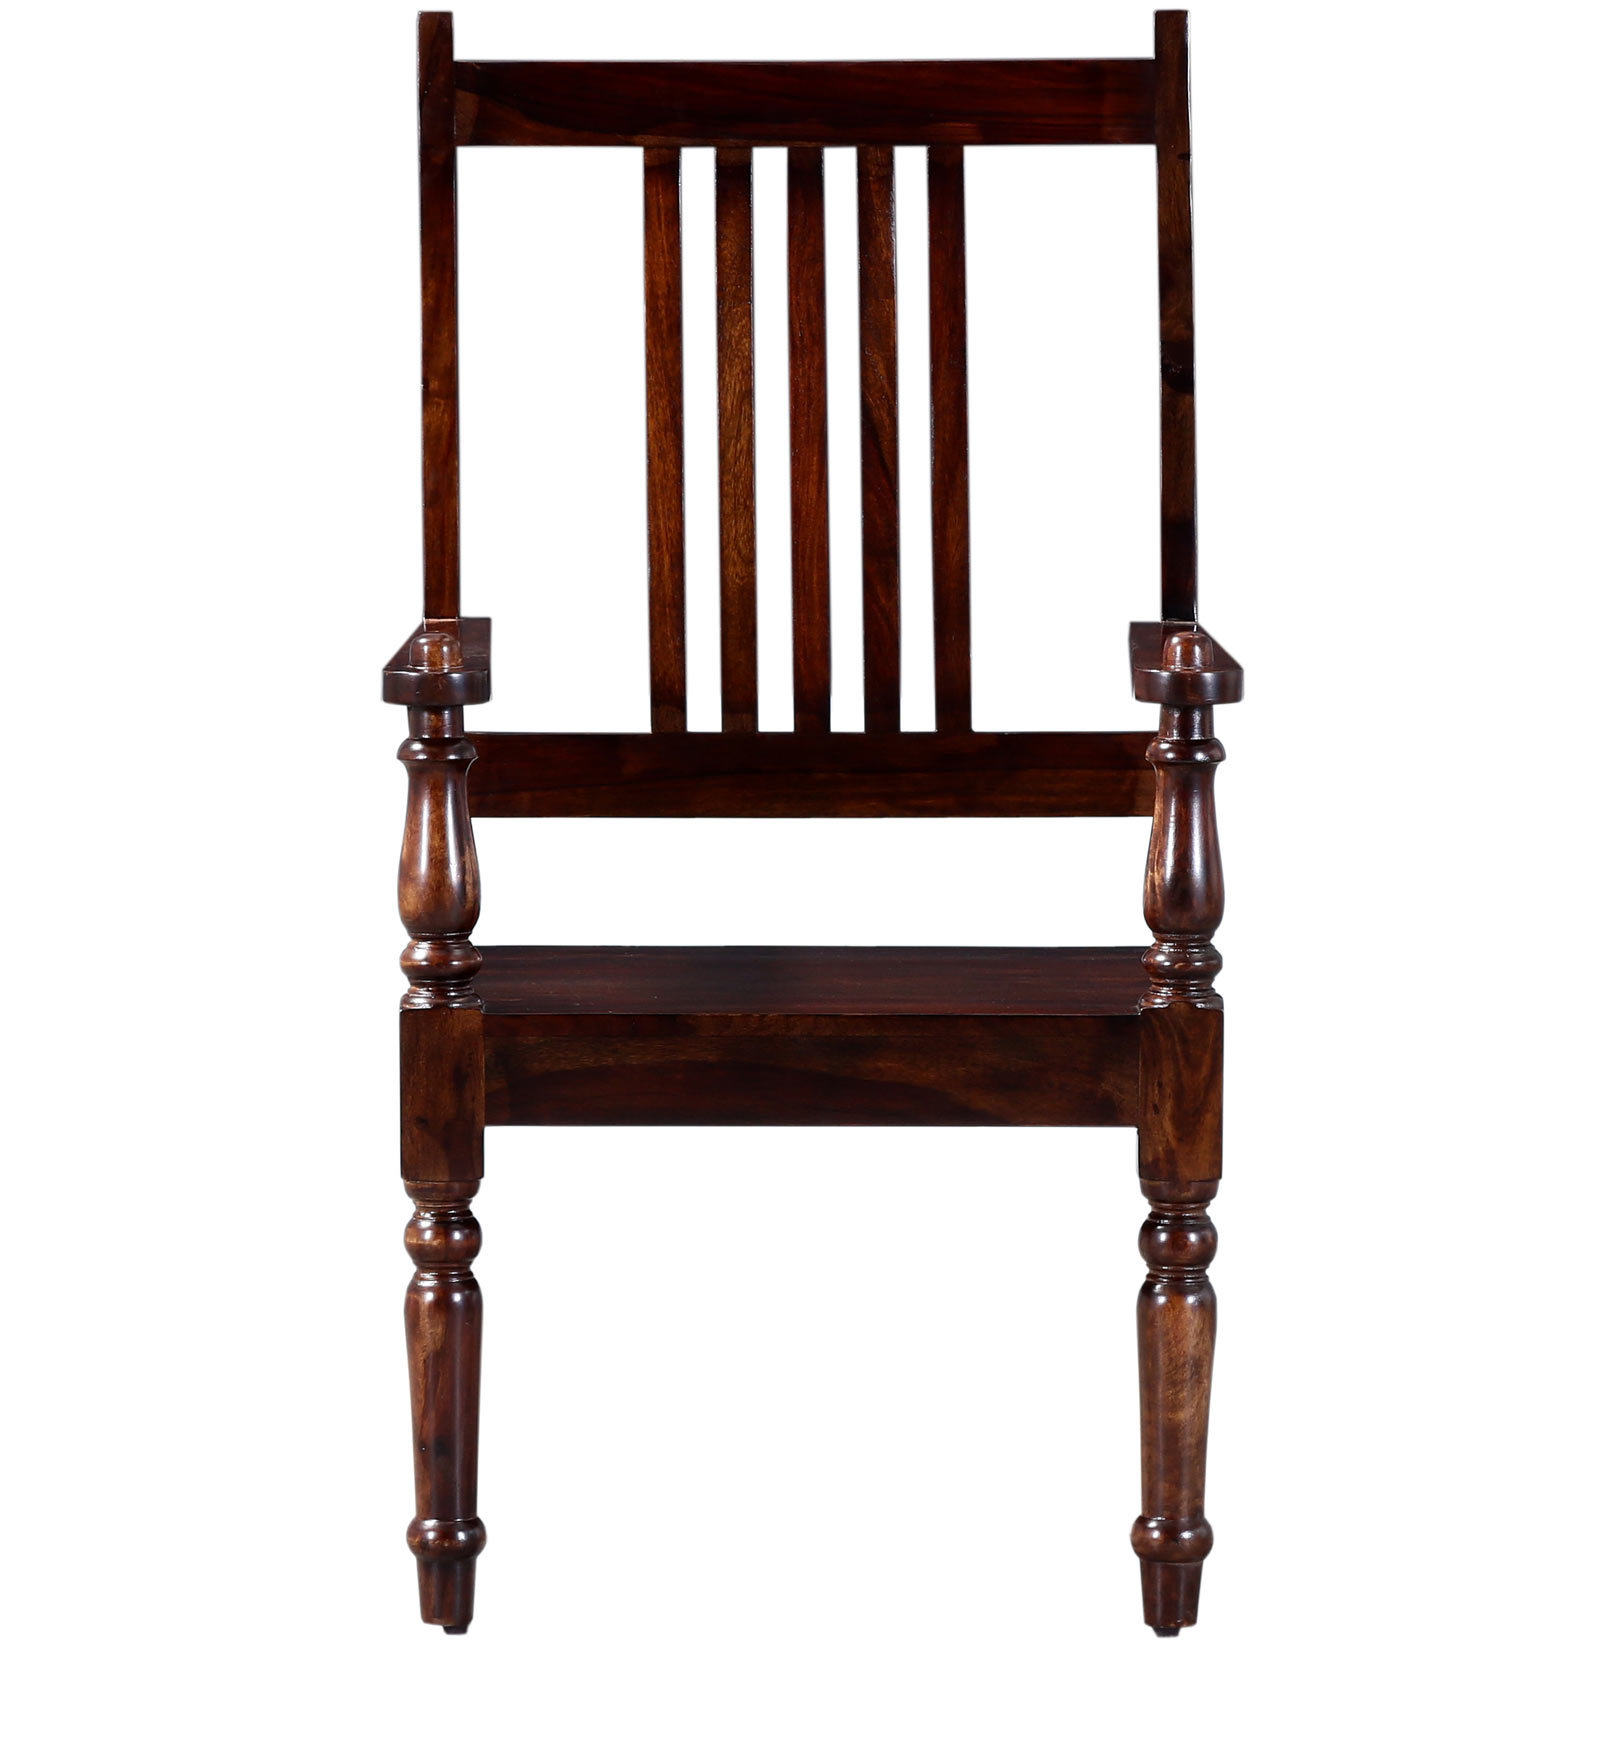Raylestone Arm Chair in Provincial Teak Finish by Amberville: (349, 17, 1361, 1668)
